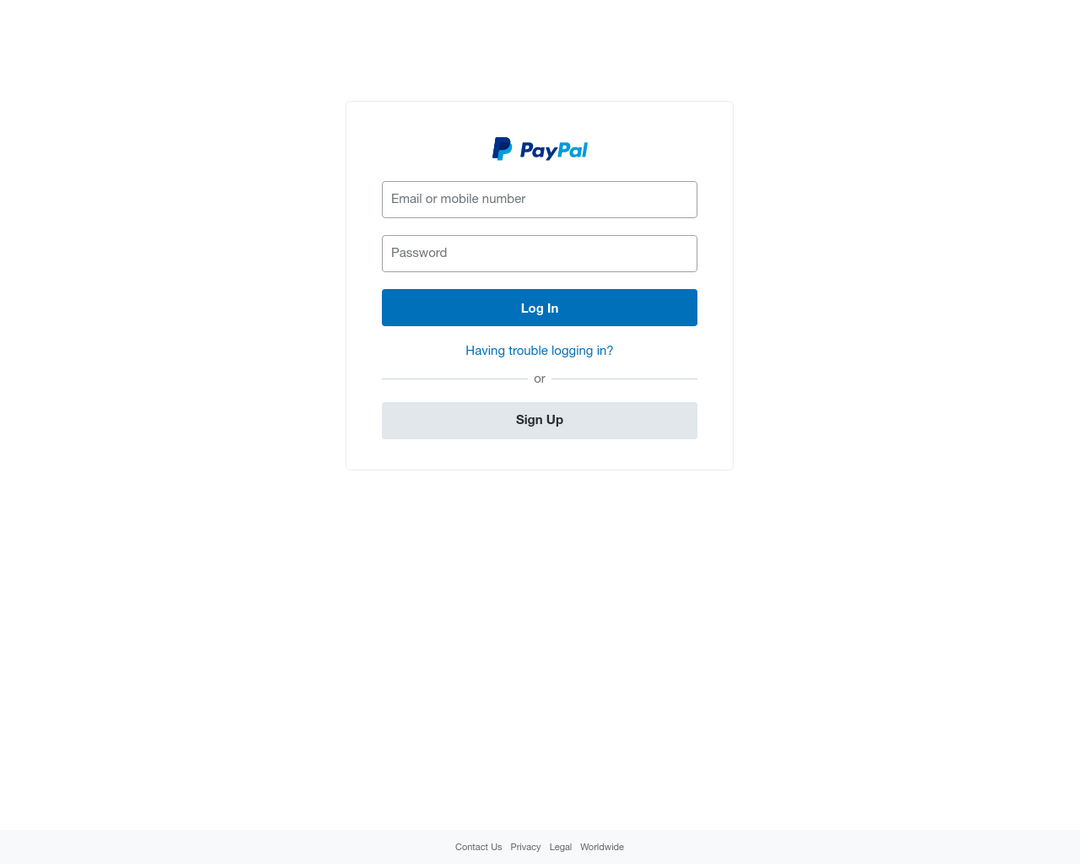Paypal: (480, 129, 593, 168)
